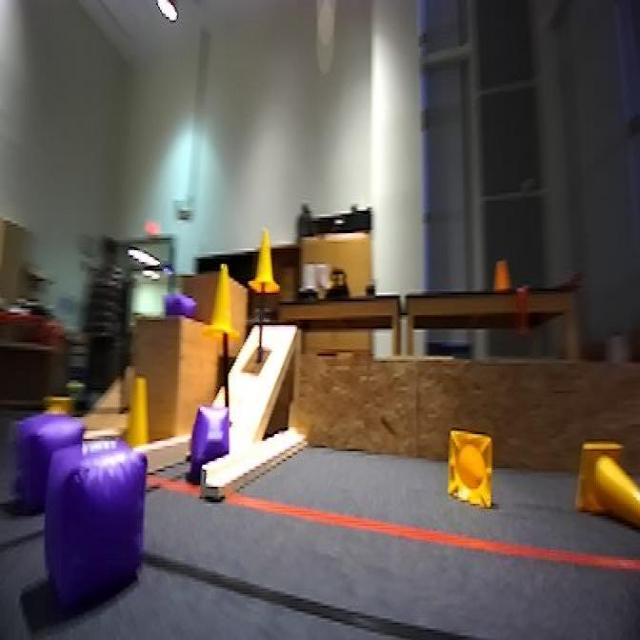frc_cone: (576, 442, 640, 546), (443, 422, 508, 523), (252, 223, 286, 294), (126, 371, 148, 434), (214, 284, 238, 336), (43, 392, 78, 417)
frc_cube: (68, 434, 164, 591), (6, 412, 84, 522), (150, 286, 212, 334), (196, 405, 236, 455)
